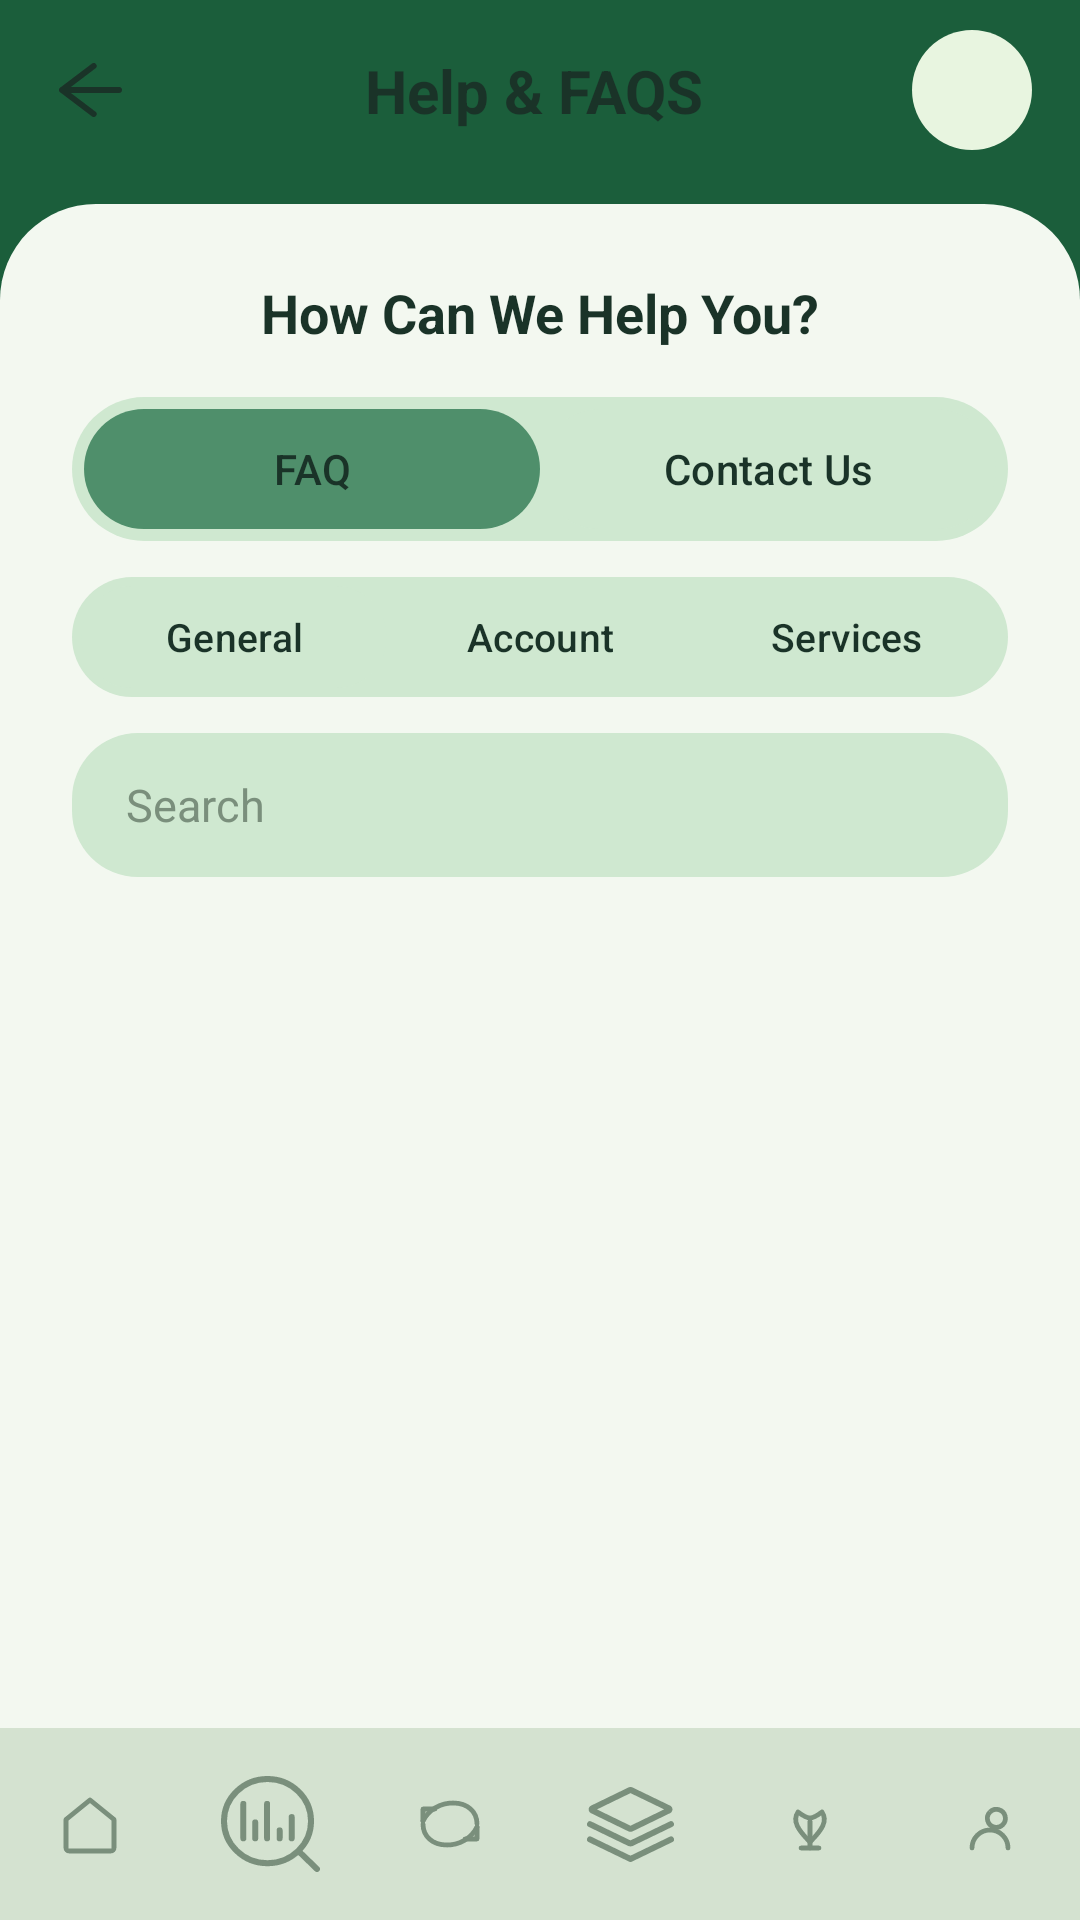

Locate icon controls on the screen. Image size 1080x1920, boxes as detection(x1, y1, x2, y2).
Analytics: detection(221, 1776, 320, 1872)
Back: detection(59, 63, 122, 117)
Categories: detection(587, 1787, 674, 1862)
Goals: detection(793, 1809, 827, 1851)
Home: detection(63, 1797, 117, 1854)
Profile: detection(969, 1807, 1011, 1850)
Transactions: detection(420, 1800, 480, 1848)
